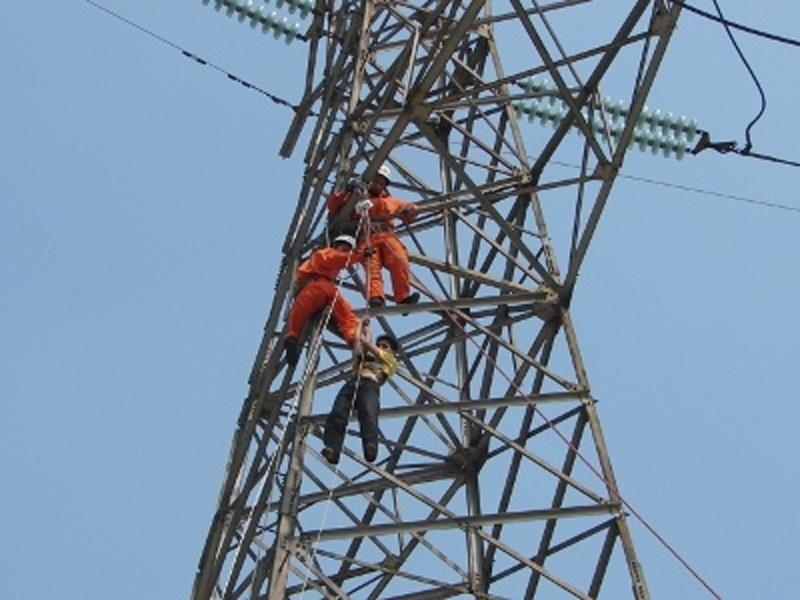power_tower: (172, 3, 702, 594)
